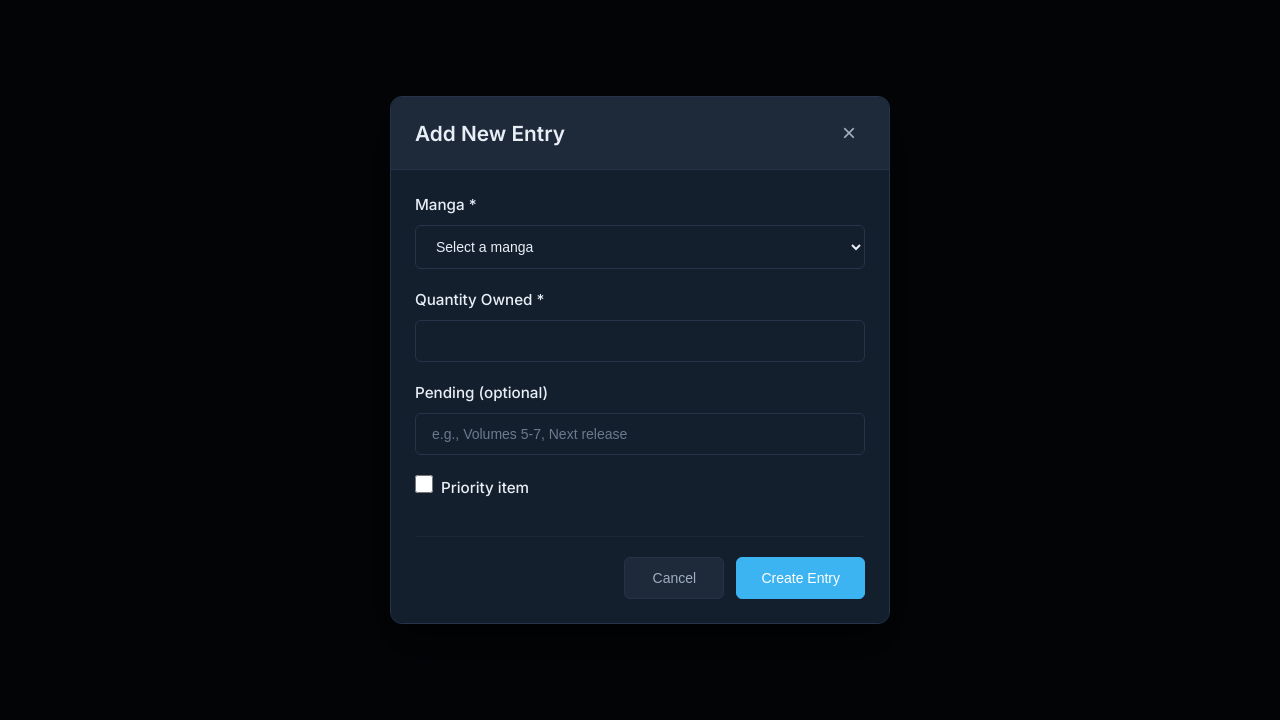
Test: AddEntryModal: render y validaciones › exige cantidad aunque haya manga elegido
The image size is (1280, 720).
Select "Alpha (10 volumes)" in the dropdown labelled "Manga *" at (640, 247), box top-left (415, 225), bottom-right (865, 269)
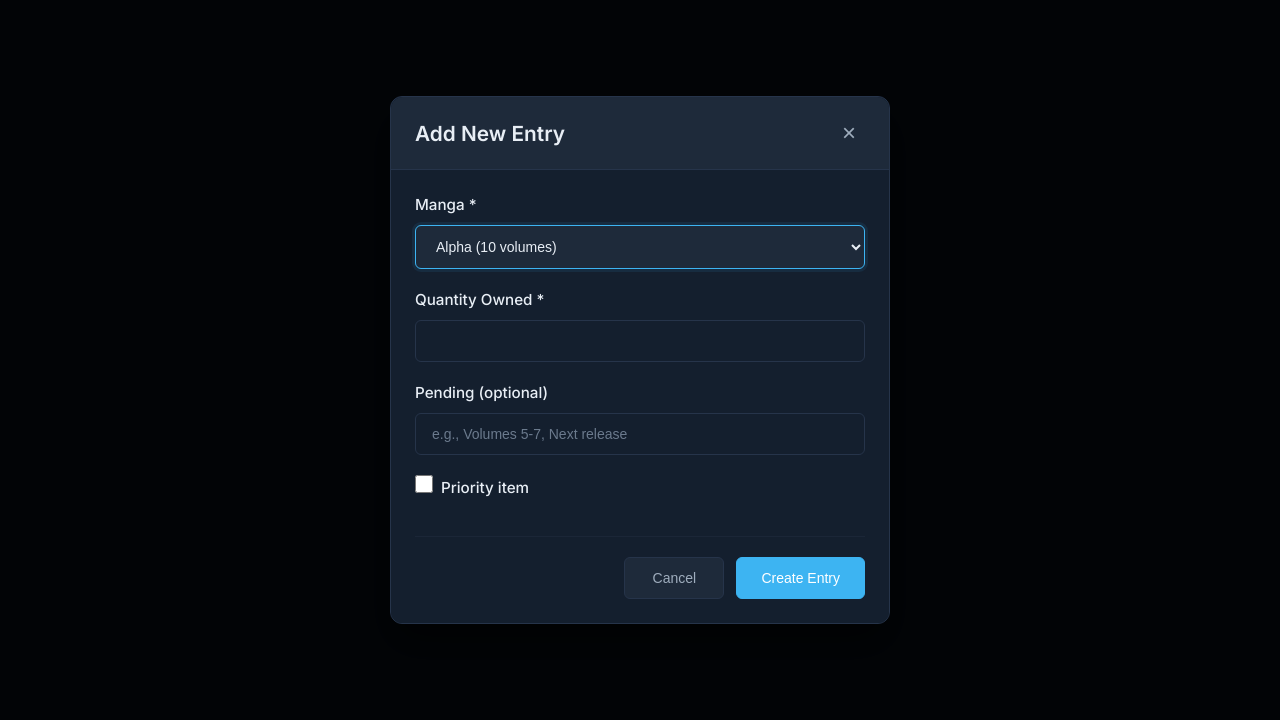
Submit the form, box top-left (391, 170), bottom-right (889, 623)
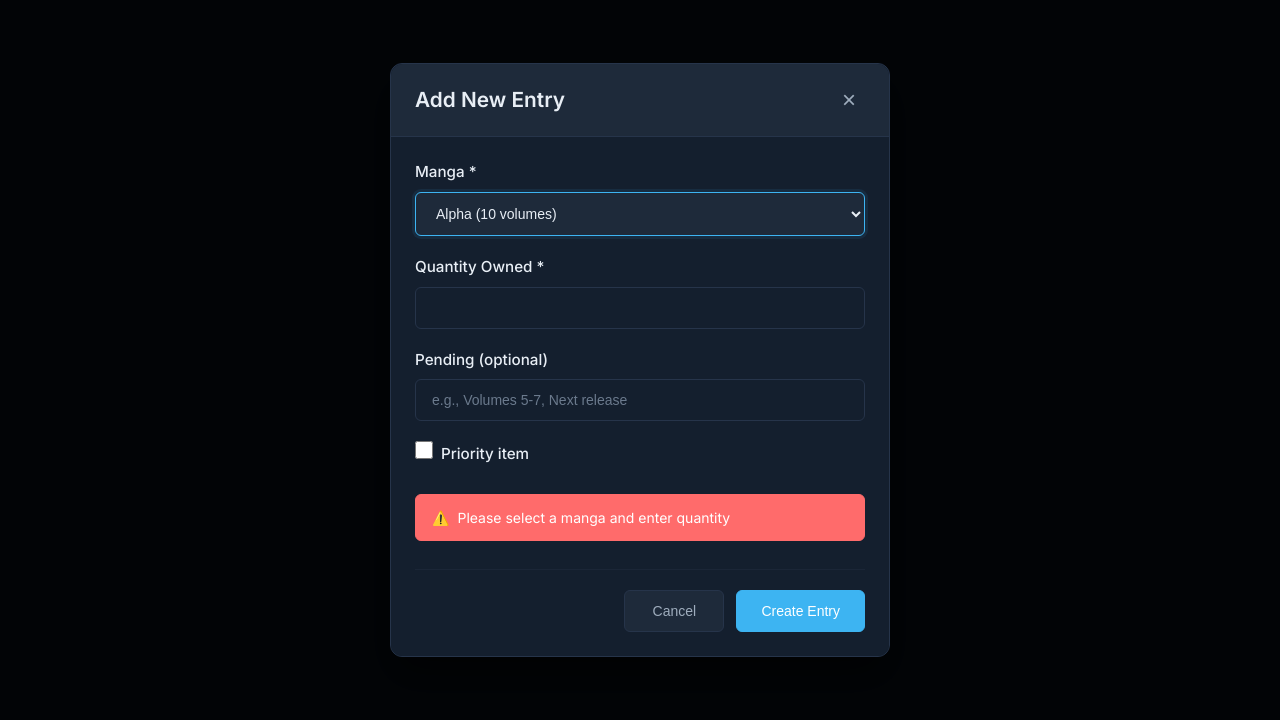
Expected: the text "Please select a manga and enter quantity" is shown, top-left (415, 494), bottom-right (865, 541)
